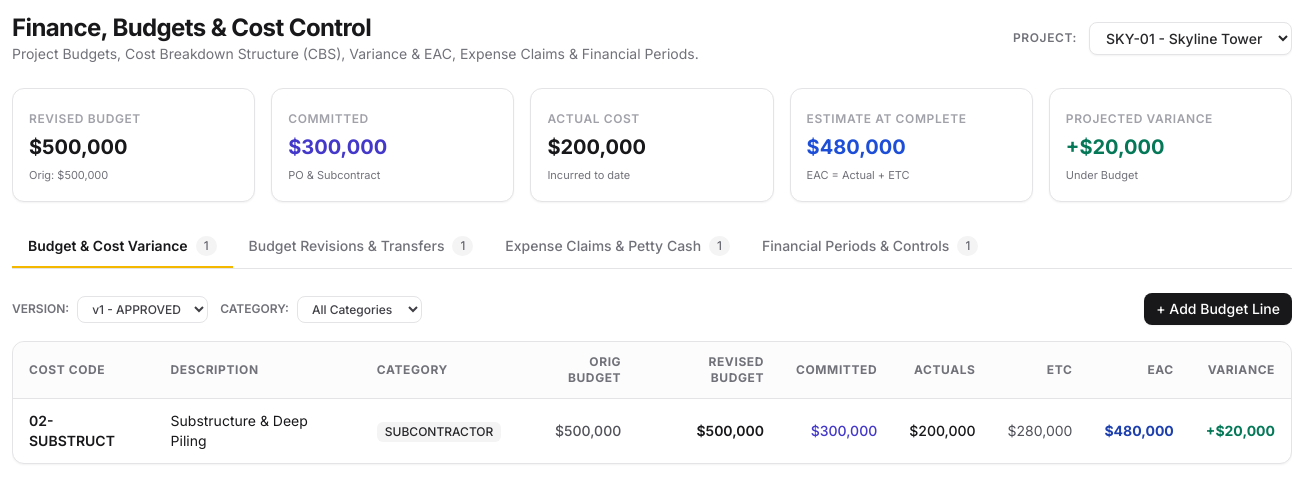
FinancePage Component › switches to Financial Periods tab and displays open period
Check: the heading "Finance, Budgets & Cost Control" is shown, box [12,13,371,42]
Click the button "Financial Periods & Controls 1" at (870,247), box [746,226,994,268]
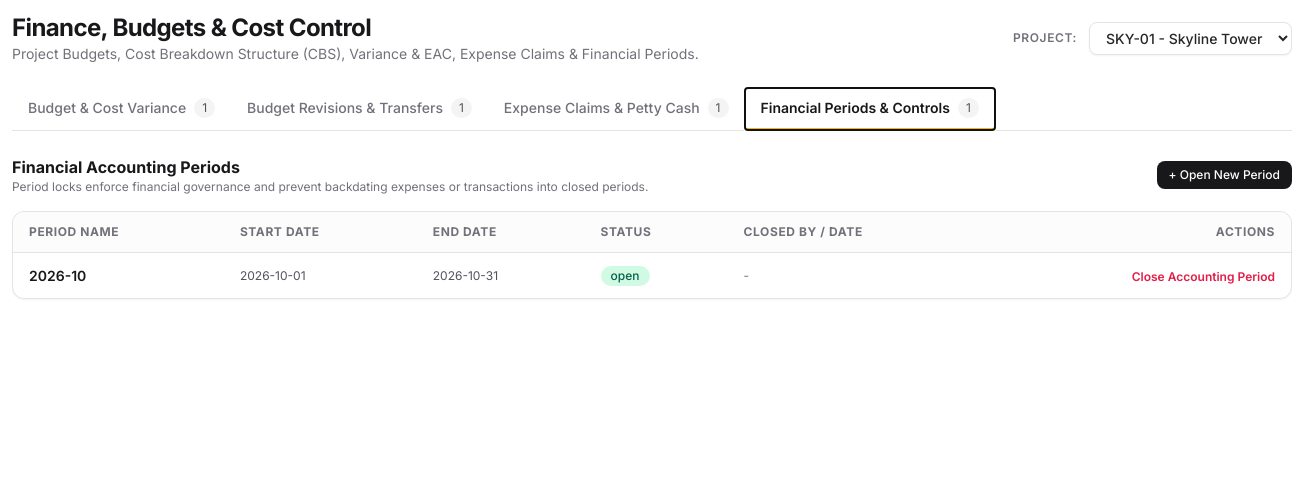
Check: the text "2026-10" is shown, box [13,252,224,298]
Check: the text "2026-10-01" is shown, box [224,252,417,298]
Check: the text "2026-10-31" is shown, box [417,252,585,298]
